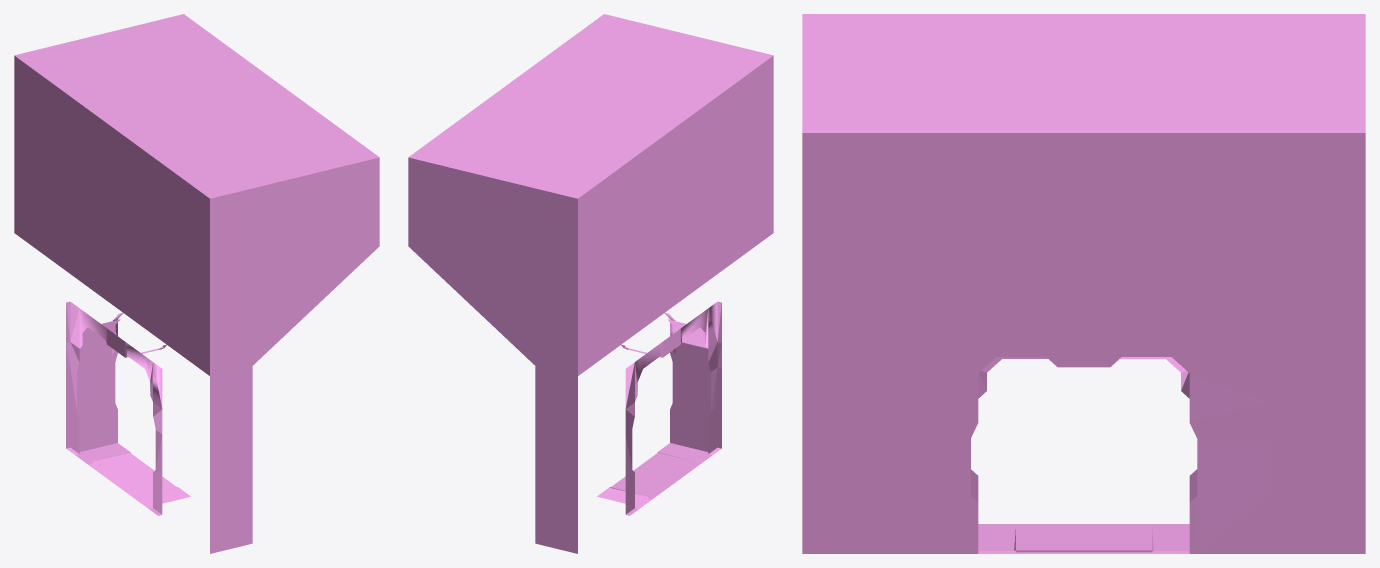
The model's file is uee_stanton_kit_ext_exit_4x8x8_03_reg.glb.
The picture shows the model from 3 angles, left to right: view 1: azimuth 30°, elevation 25°; view 2: azimuth 150°, elevation 25°; view 3: azimuth 270°, elevation 25°; orthographic projection. The views are drawn at different scales.
Size of the model in its own units: 4 by 8 by 8.
